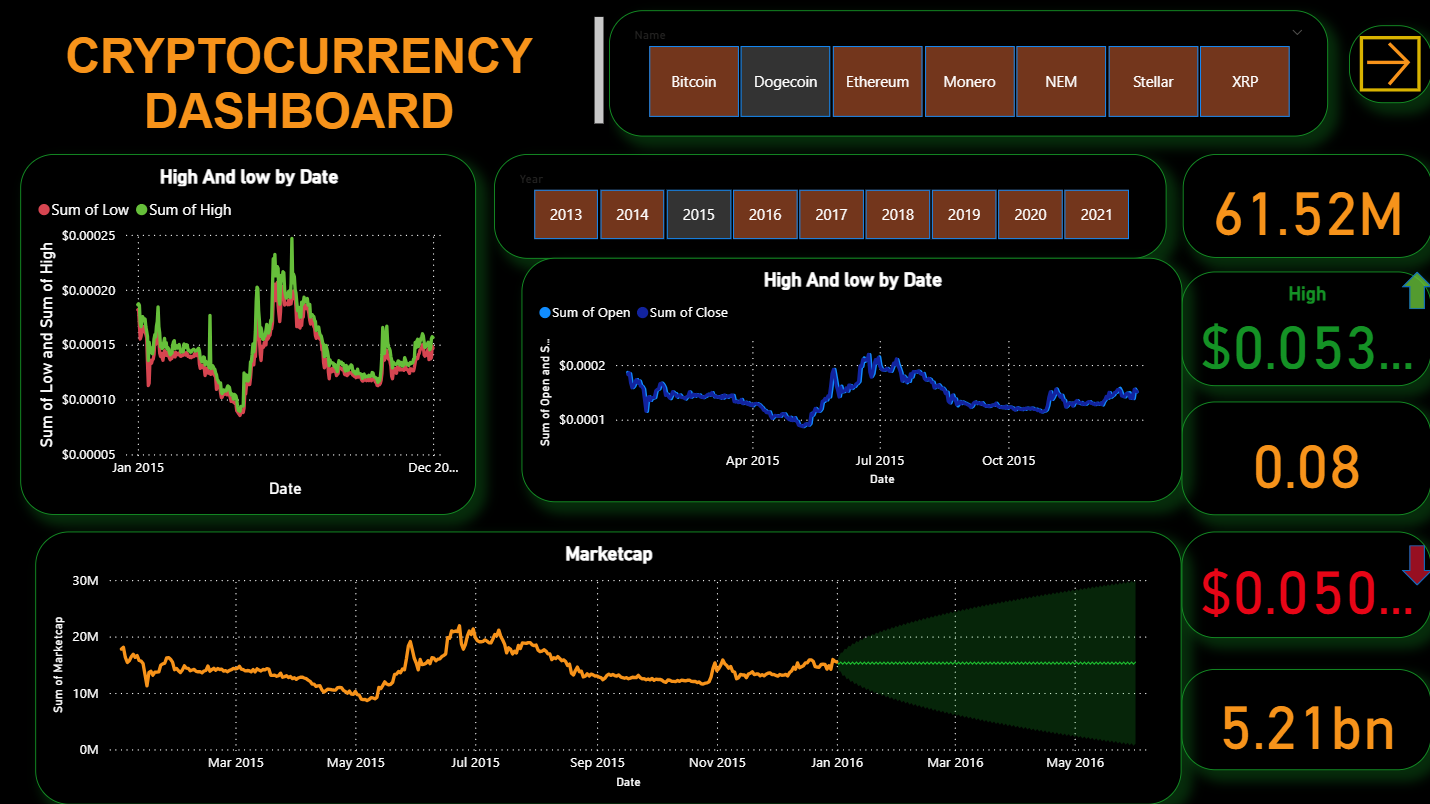

The page's visual inventory and layout, read from the dashboard file:
{"tool":"powerbi","page":{"name":"overview","canvas":[1280,720],"ordinal":0},"visuals":[{"type":"slicer","fields":{"Values":["CryptoDataSet.Year"]},"box":[441.9,138.6,601,93.3],"z":0},{"type":"slicer","fields":{"Values":["CryptoDataSet.Name"]},"box":[544.8,9.6,642.2,112.5],"z":1000},{"type":"actionButton","box":[1205.8,23.3,74.4,69.8],"z":2000},{"type":"card","title":"volume","fields":{"Values":["Sum(CryptoDataSet.Volume)"]},"box":[1057,138.4,223.3,93],"z":3000},{"type":"card","title":"High","fields":{"Values":["Sum(CryptoDataSet.High)"]},"box":[1056.8,243.2,223.5,102.4],"z":4000},{"type":"card","title":"Avarage","fields":{"Values":["Sum(CryptoDataSet.Average)"]},"box":[1056.8,359.6,223.5,101.3],"z":5000},{"type":"card","title":"Low","fields":{"Values":["Sum(CryptoDataSet.Low)"]},"box":[1056.8,476,223.5,95.4],"z":6000},{"type":"card","title":"Marketcap","fields":{"Values":["Sum(CryptoDataSet.Marketcap)"]},"box":[1056.8,598.2,223.5,90.8],"z":7000},{"type":"shape","box":[1252.3,243.2,27.9,33.8],"z":8000},{"type":"shape","box":[1252.3,487.7,27.9,36.1],"z":9000},{"type":"textbox","box":[0,11,544.8,111.1],"z":10000},{"type":"lineChart","title":" High And low by Date","fields":{"Category":["CryptoDataSet.Date"],"Y":["Sum(CryptoDataSet.Low)","Sum(CryptoDataSet.High)"]},"box":[19.2,138.6,407.5,322.5],"z":11000},{"type":"lineChart","title":" High And low by Date","fields":{"Category":["CryptoDataSet.Date"],"Y":["Sum(CryptoDataSet.Open)","Sum(CryptoDataSet.Close)"]},"box":[466.3,231.4,590.7,218.6],"z":12000},{"type":"lineChart","title":"Marketcap","fields":{"Category":["CryptoDataSet.Date"],"Y":["Sum(CryptoDataSet.Marketcap)"]},"box":[32.9,476.2,1023.7,244.3],"z":13000}]}

Visuals, with their boxes in screenshot pixels (x1, y1, x2, y2), scaled from the page's 1280x720 canvas onto the 1430x804 screenshot:
slicer - CryptoDataSet.Year: l=494, t=155, r=1165, b=259
slicer - CryptoDataSet.Name: l=609, t=11, r=1326, b=136
actionButton: l=1347, t=26, r=1429, b=104
"volume" card: l=1181, t=155, r=1429, b=258
"High" card: l=1181, t=272, r=1429, b=386
"Avarage" card: l=1181, t=402, r=1429, b=515
"Low" card: l=1181, t=532, r=1429, b=638
"Marketcap" card: l=1181, t=668, r=1429, b=769
shape: l=1399, t=272, r=1429, b=309
shape: l=1399, t=545, r=1429, b=585
textbox: l=0, t=12, r=609, b=136
" High And low by Date" lineChart: l=21, t=155, r=477, b=515
" High And low by Date" lineChart: l=521, t=258, r=1181, b=502
"Marketcap" lineChart: l=37, t=532, r=1180, b=803
